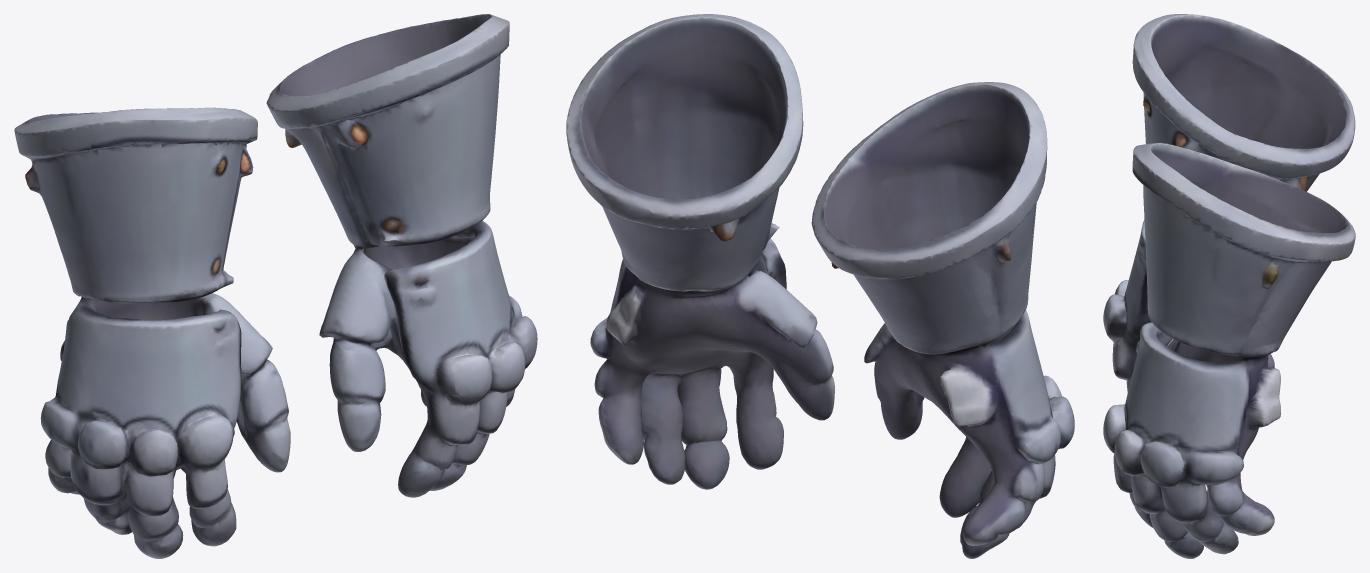
File: luva-guerreiro.glb
3 views of the same model, side by side, from view 1: azimuth 30°, elevation 25°; view 2: azimuth 150°, elevation 25°; view 3: azimuth 270°, elevation 25° (orthographic). The views are drawn at different scales.
Parts seen in each view (by area): view 1: tripo_node_87190bf8-aa2e-47ce-9bee-60b53f8eb02c.001; view 2: tripo_node_87190bf8-aa2e-47ce-9bee-60b53f8eb02c.001; view 3: tripo_node_87190bf8-aa2e-47ce-9bee-60b53f8eb02c.001.
Part boxes in pixels (<box>): tripo_node_87190bf8-aa2e-47ce-9bee-60b53f8eb02c.001: <box>14,14,537,558</box>; tripo_node_87190bf8-aa2e-47ce-9bee-60b53f8eb02c.001: <box>566,14,1074,558</box>; tripo_node_87190bf8-aa2e-47ce-9bee-60b53f8eb02c.001: <box>1103,14,1355,558</box>.
Size of the model in its own units: 0.1747 by 0.1661 by 0.0931.
1 material, 1 textured.
